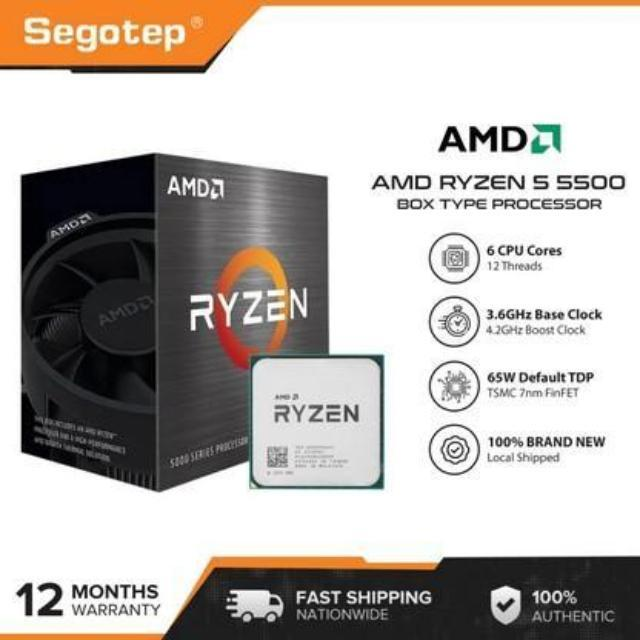CPU: (248, 349, 392, 498)
